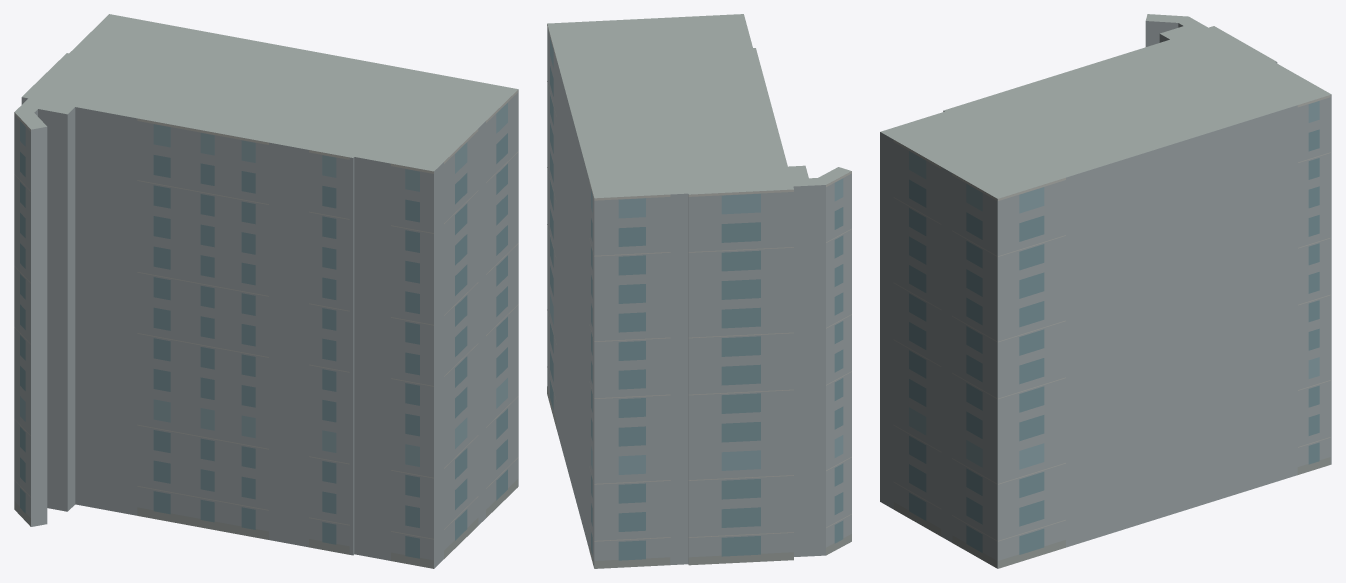
Rendered from survey-upis-33036292.glb.
The picture shows the model from 3 angles, left to right: view 1: azimuth 30°, elevation 25°; view 2: azimuth 150°, elevation 25°; view 3: azimuth 270°, elevation 25°; orthographic projection. The views are drawn at different scales.
Visible parts, largest first — view 1: survey-upis-33036292.tmp; view 2: survey-upis-33036292.tmp; view 3: survey-upis-33036292.tmp.
Boxes of the visible parts, x1,y1,x2,y2 form: survey-upis-33036292.tmp: (14, 14, 518, 568); survey-upis-33036292.tmp: (547, 14, 851, 568); survey-upis-33036292.tmp: (880, 14, 1331, 568).
Bounding box in the file's own units: 40.76 × 38 × 42.06.
